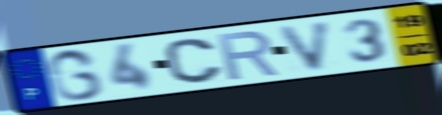3: (341, 16, 388, 65)
4: (107, 40, 156, 95)
C: (162, 37, 226, 86)
G: (45, 47, 107, 103)
R: (215, 28, 282, 82)
V: (276, 18, 335, 73)
